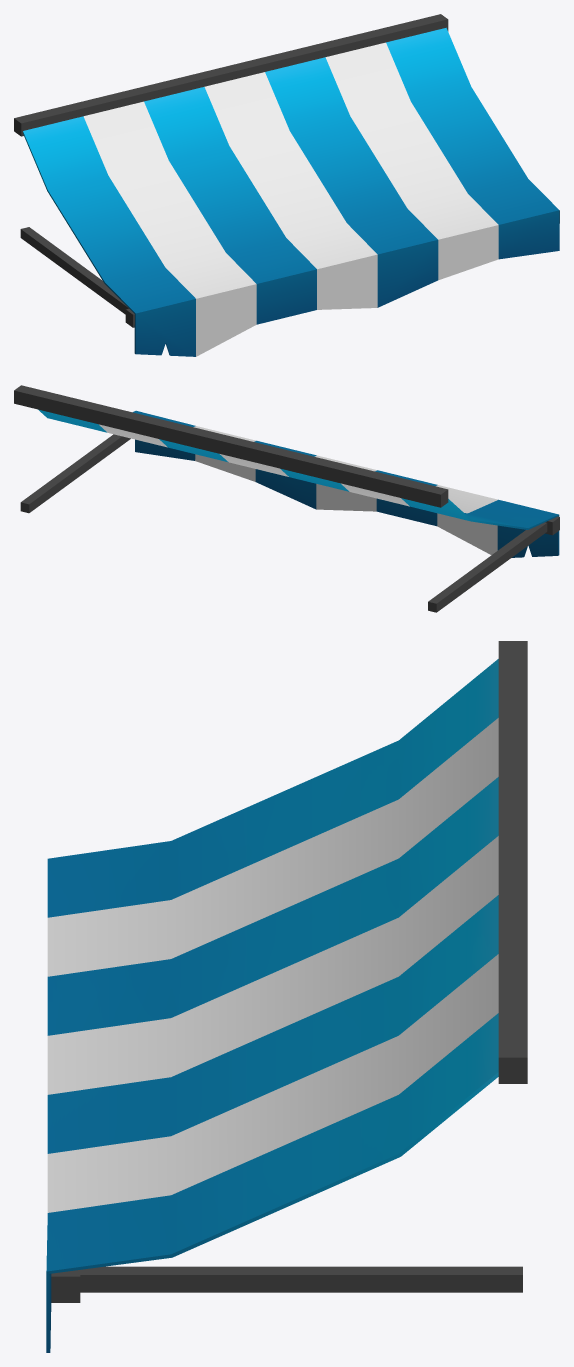
File: SM_BuildingsDecor_32.fbx
The picture shows the model from 3 angles, top to bottom: view 1: azimuth 30°, elevation 25°; view 2: azimuth 150°, elevation 25°; view 3: azimuth 270°, elevation 25°; orthographic projection. The views are drawn at different scales.
Visible parts, largest first — view 1: SM_BuildingsDecor_32; view 2: SM_BuildingsDecor_32; view 3: SM_BuildingsDecor_32.
Part boxes in pixels (x1,y1,x2,y2): SM_BuildingsDecor_32: (14,14,559,356); SM_BuildingsDecor_32: (14,385,559,612); SM_BuildingsDecor_32: (46,641,527,1352).
Size of the model in its own units: 2.5 by 0.9295 by 1.22.
